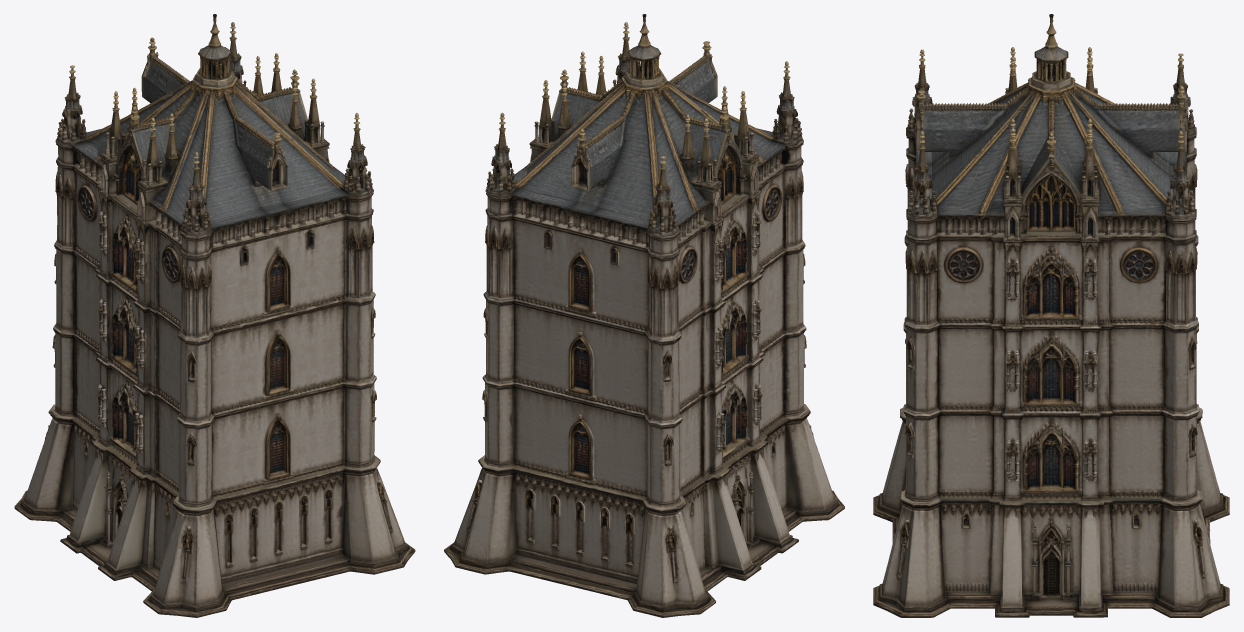
File: gothic_tower2.glb
3 views of the same model, side by side, from view 1: azimuth 30°, elevation 25°; view 2: azimuth 150°, elevation 25°; view 3: azimuth 270°, elevation 25° (orthographic). The views are drawn at different scales.
Size of the model in its own units: 0.5097 by 0.9771 by 0.587.
1 material, 1 textured.
